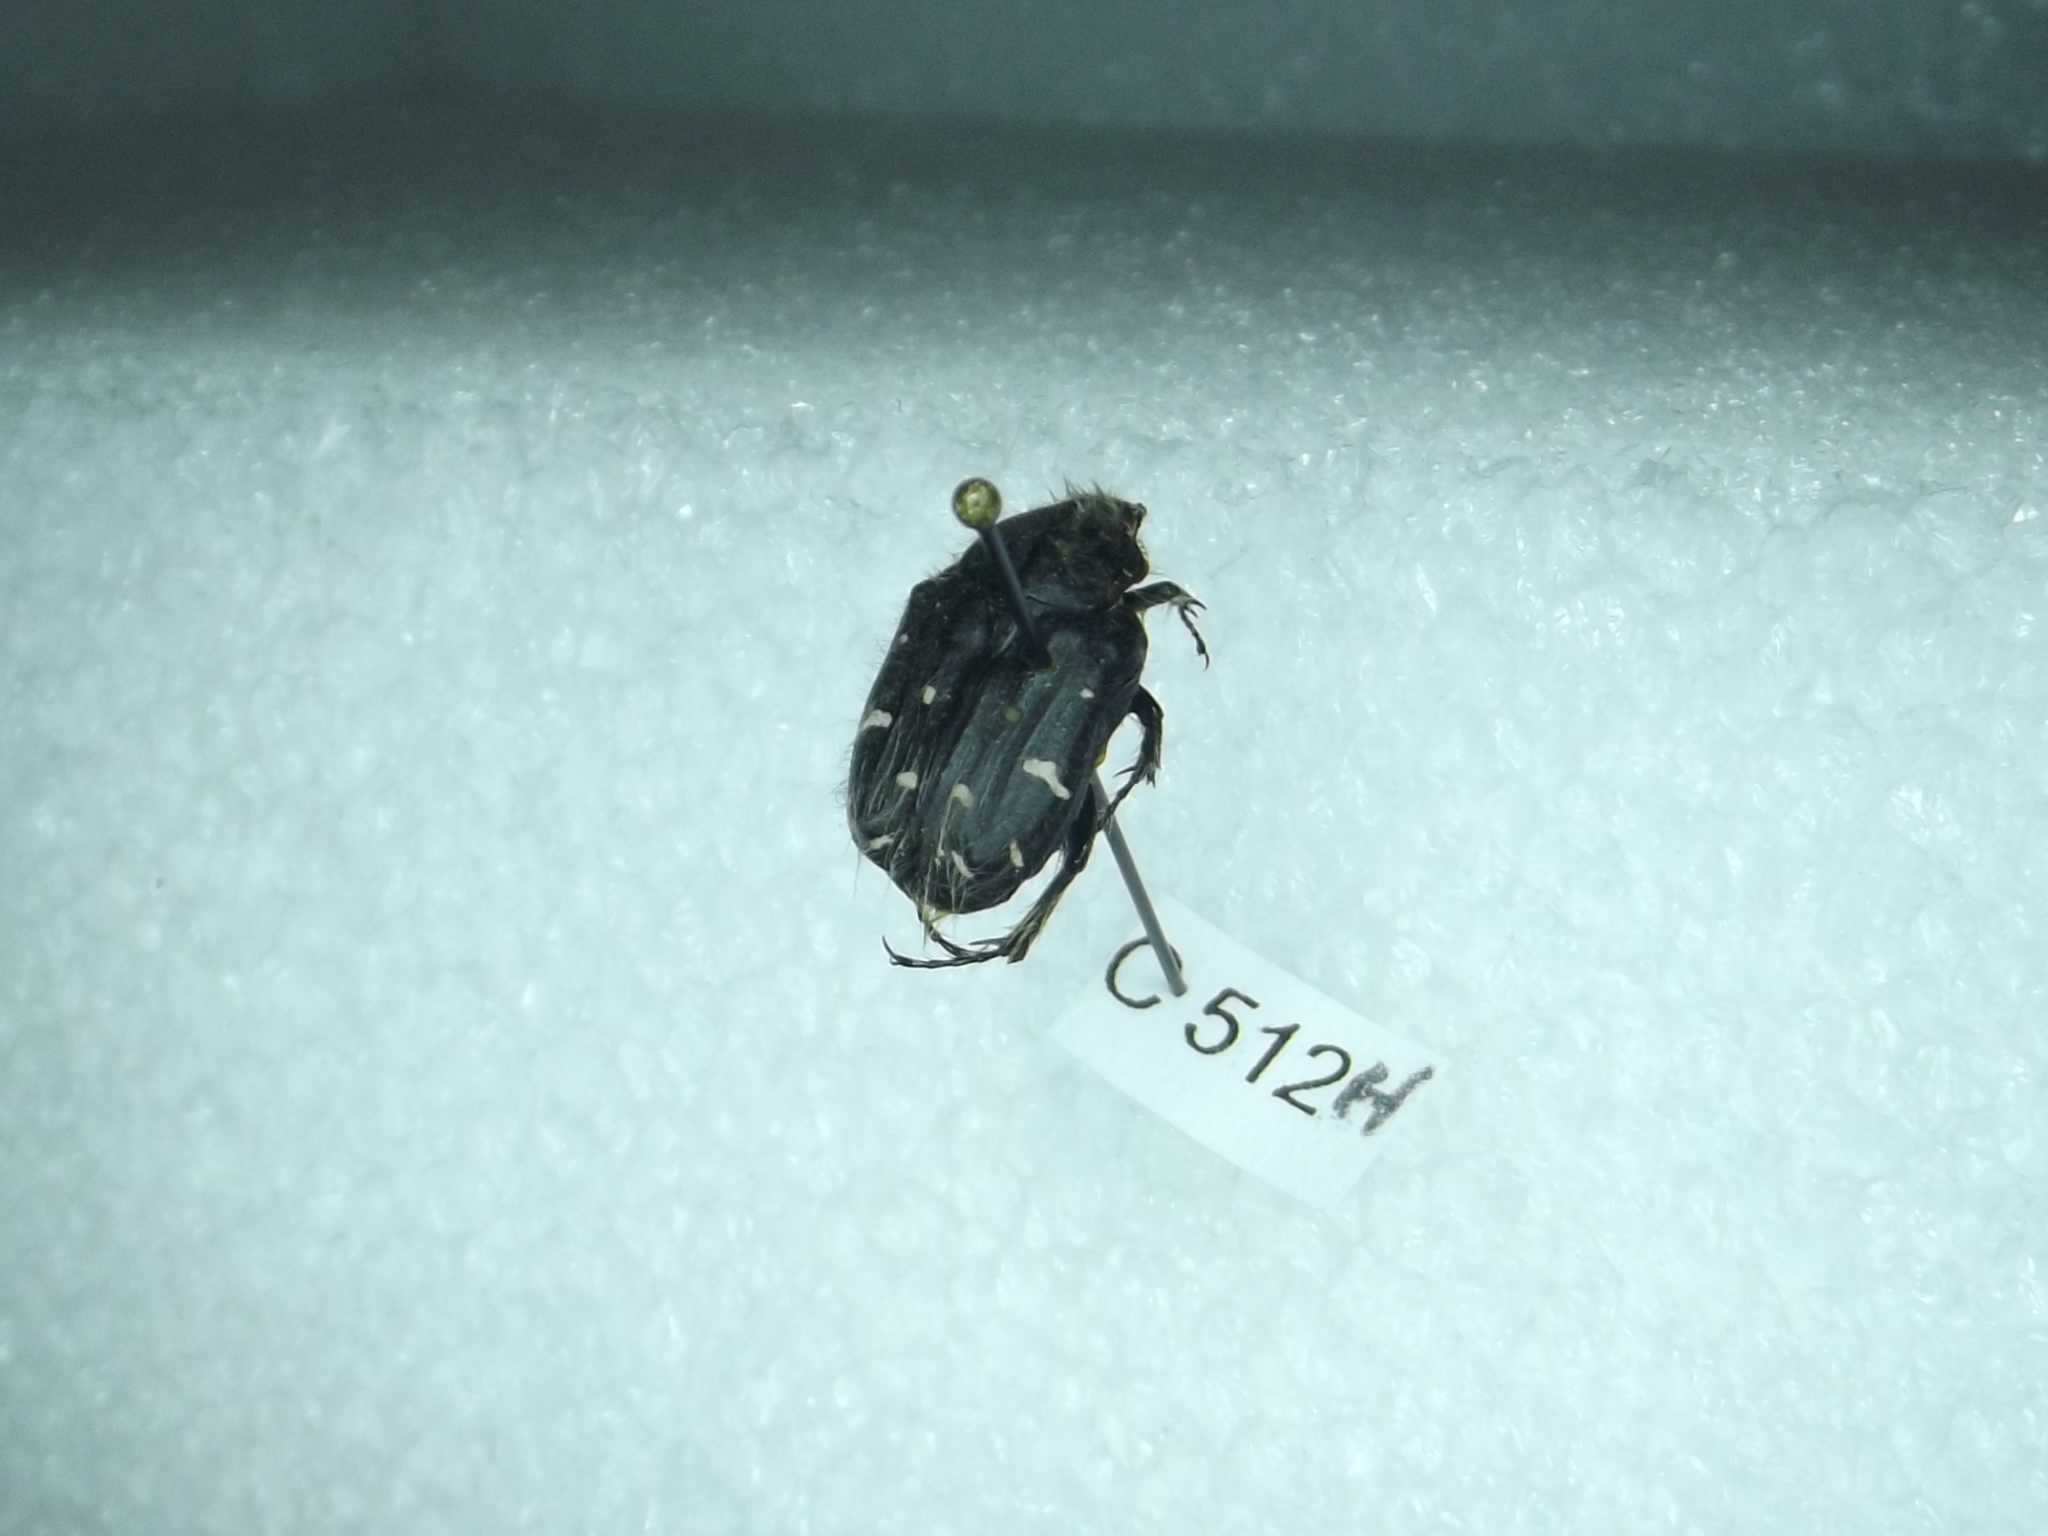Tropinota_senicula: (834, 465, 1243, 991)
